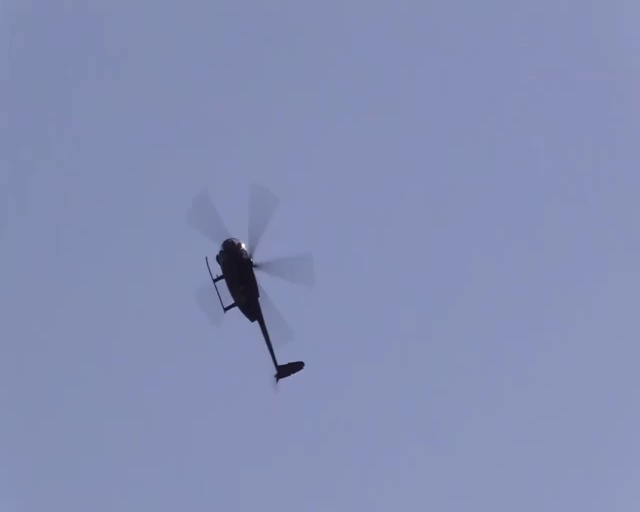HELICOPTER: (186, 181, 315, 387)
